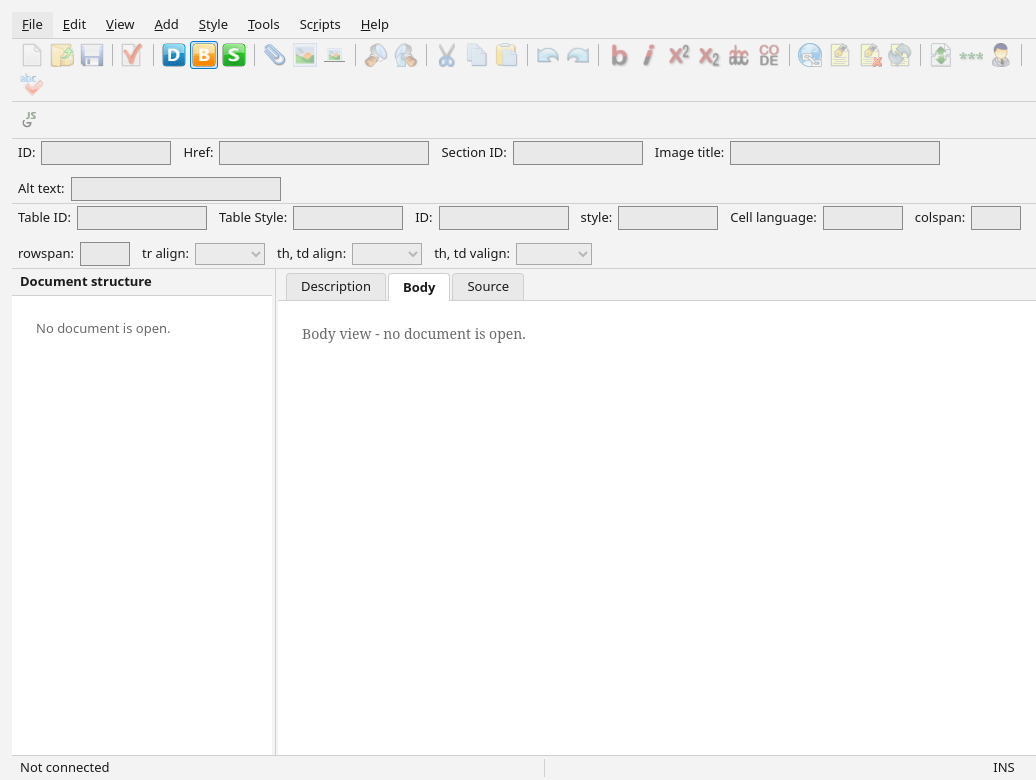
Test: App shell › opens menus with the mouse, shows items, separators, checkmarks and disabled state
The width and height of the screenshot is (1036, 780).
Click the menu item with test id "menu-file". click: (32, 25)
box: [12,12,53,38]
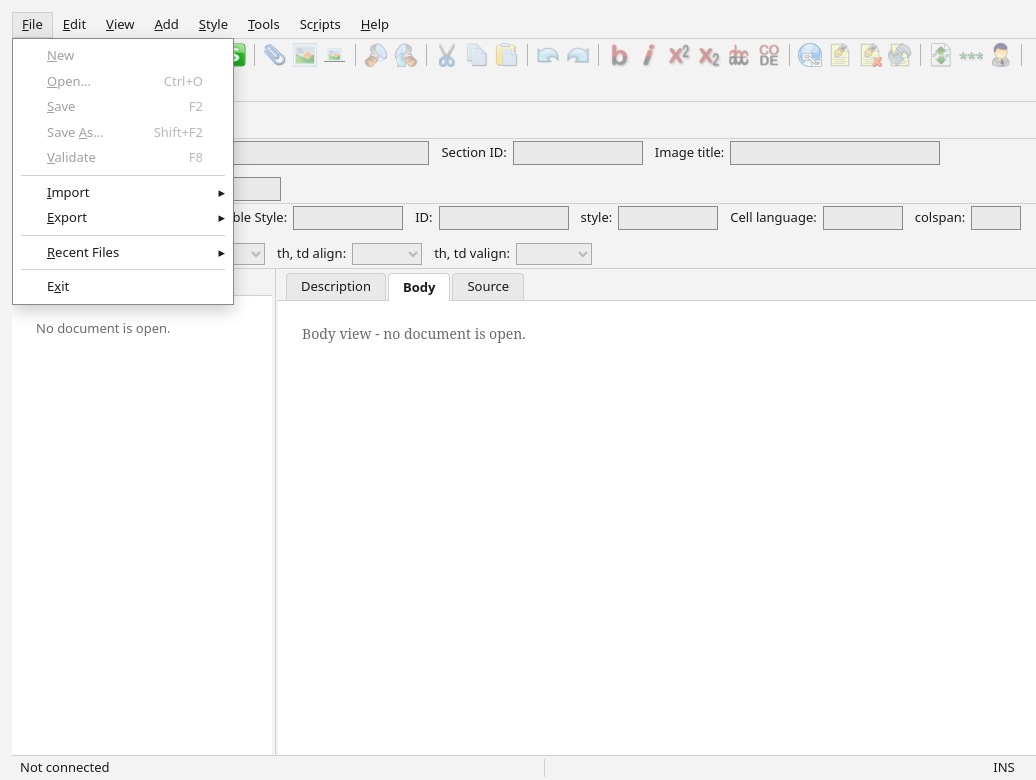
Check: the menu item with test id "menu-file-new" reads "New", box [47,46,74,64]
Check: the menu item with test id "menu-file-import" shows "Import", box [47,183,225,201]
Check: the menu item with test id "menu-file-recent" shows "Recent Files", box [47,243,225,261]
// Hovering another top-level menu switches to it.
Hover over the menu item with test id "menu-view" at (120, 25), box [96,12,145,38]
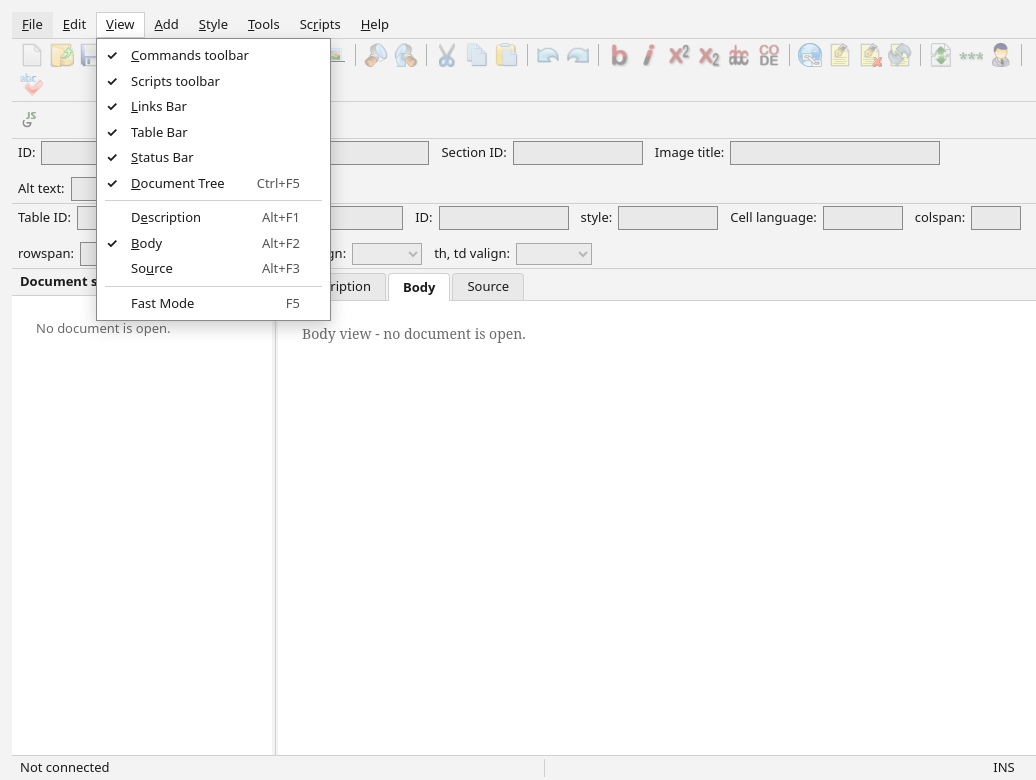
Check: the menu item with test id "menu-view-body" shows "Alt+F2", box [262,234,300,252]
Click the menu item with test id "menu-view-source". click: (281, 268)
box: [131,259,300,277]
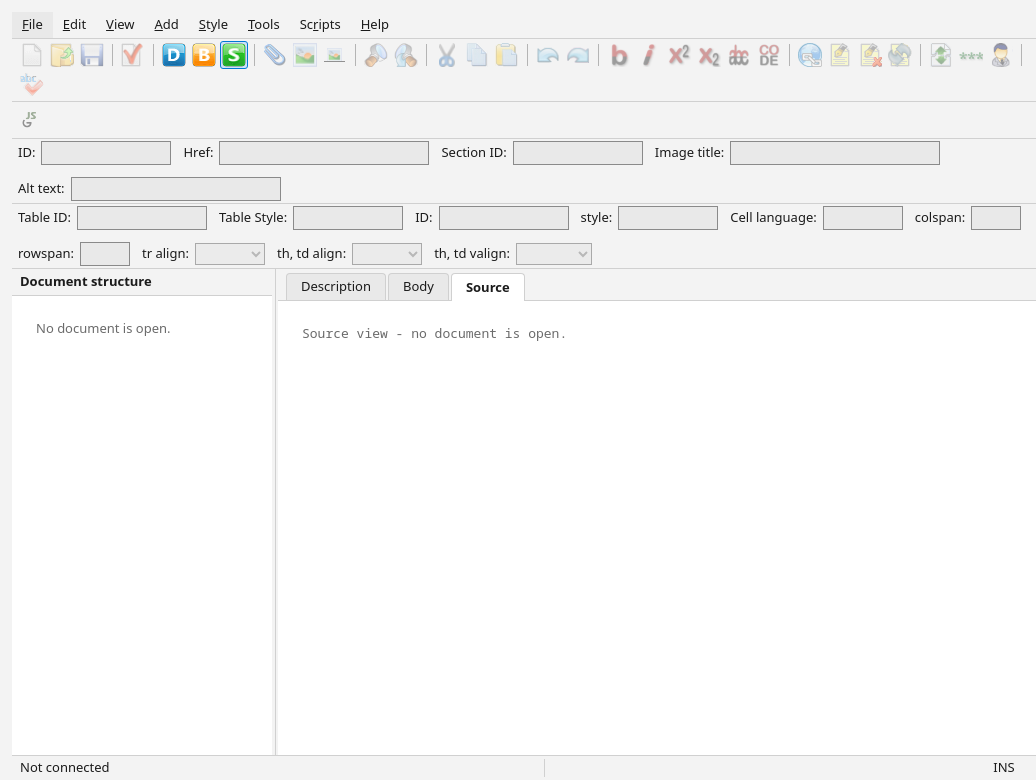
Check: the menu with test id "menu-view-popup" is gone
Check: the panel with test id "panel-source" is shown, box [302,324,567,342]
